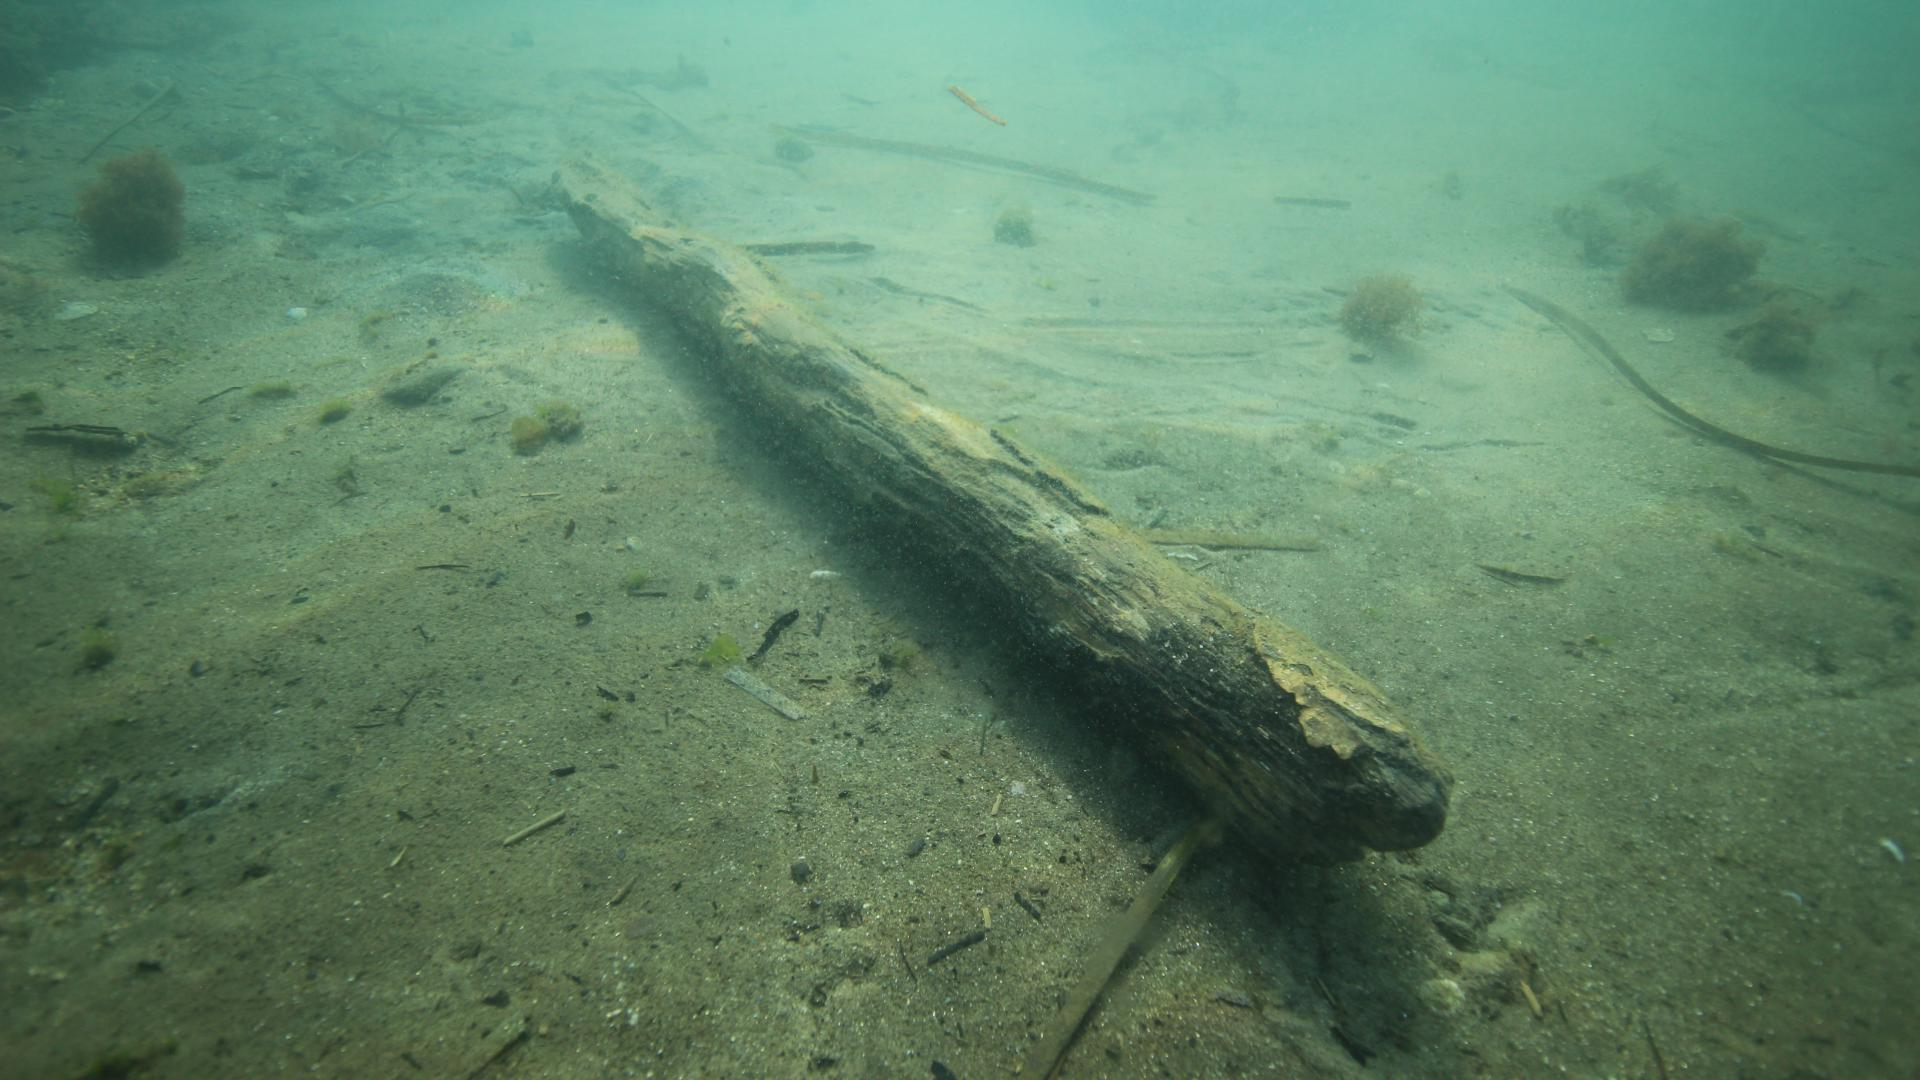wood: (542, 158, 1447, 872)
